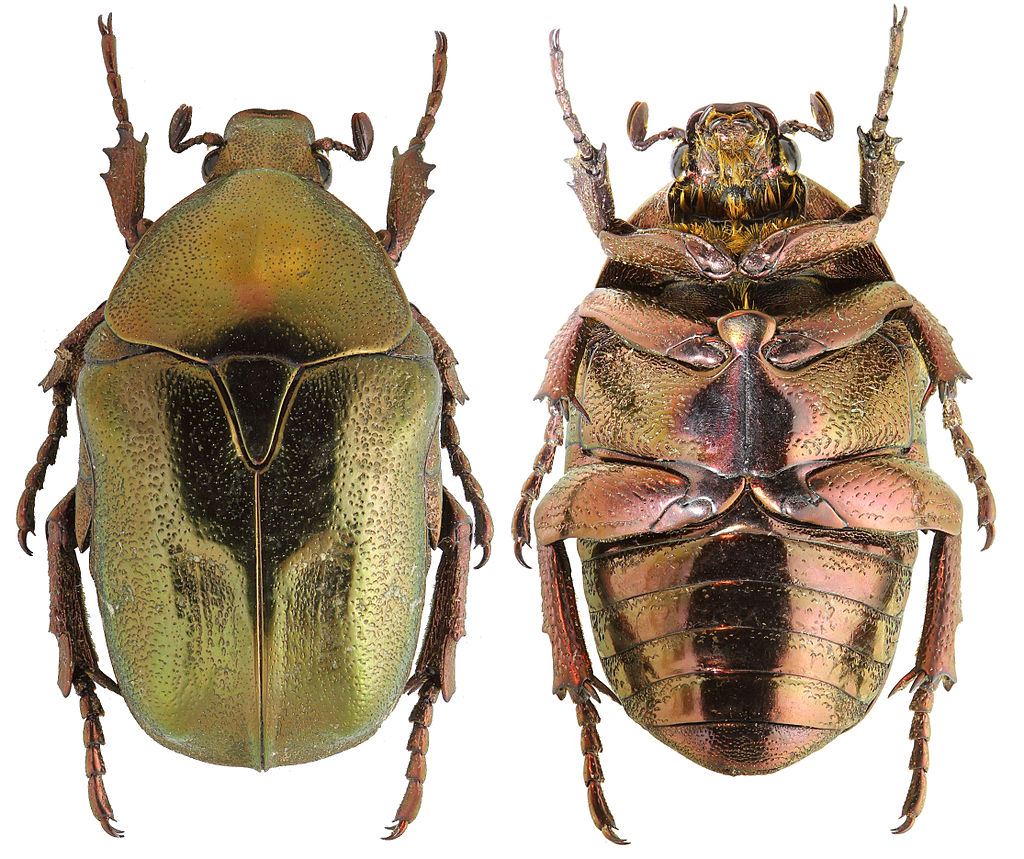Protaetia_fieberi: (13, 12, 506, 844)
